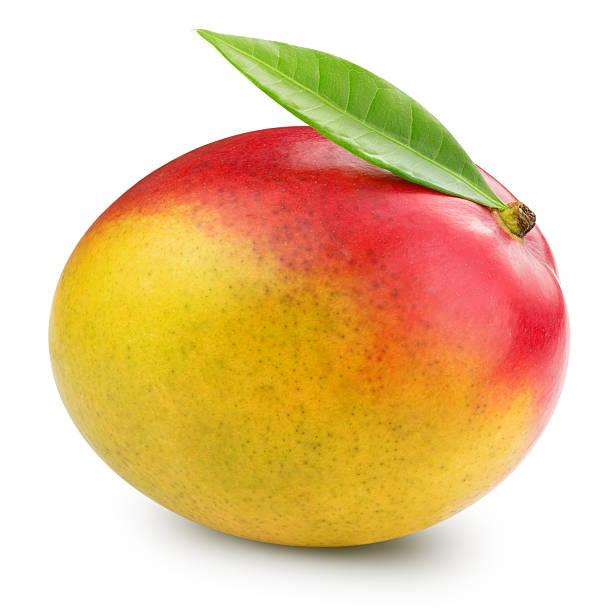mango: (28, 16, 580, 585)
